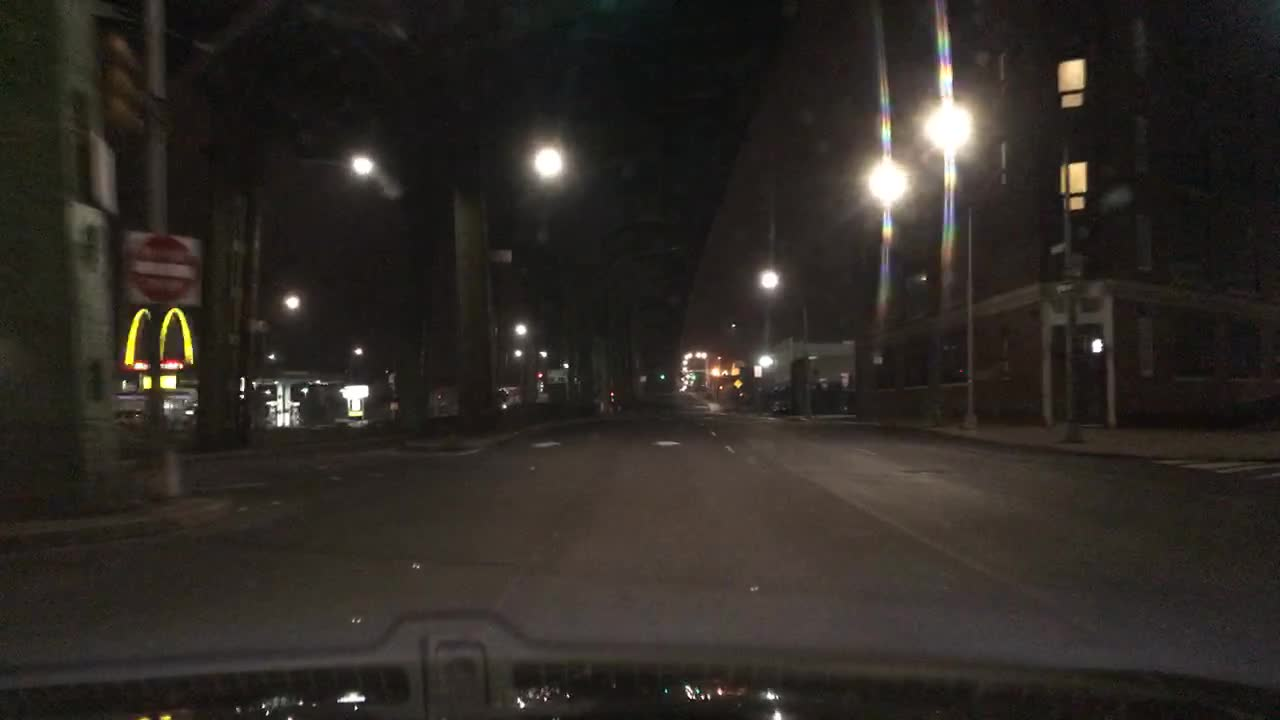car: (114, 408, 160, 436), (496, 381, 521, 410), (768, 400, 791, 415)
traffic light: (1085, 334, 1106, 356)
traffic sign: (118, 227, 205, 309), (102, 27, 138, 142), (84, 132, 124, 219), (1053, 277, 1080, 296), (733, 379, 742, 390)
